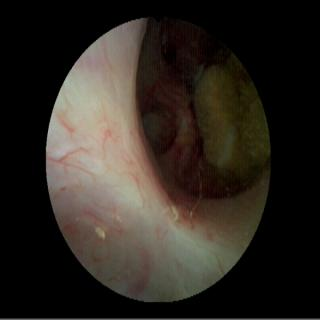stone: (195, 59, 269, 176)
tissue: (50, 24, 264, 299)
